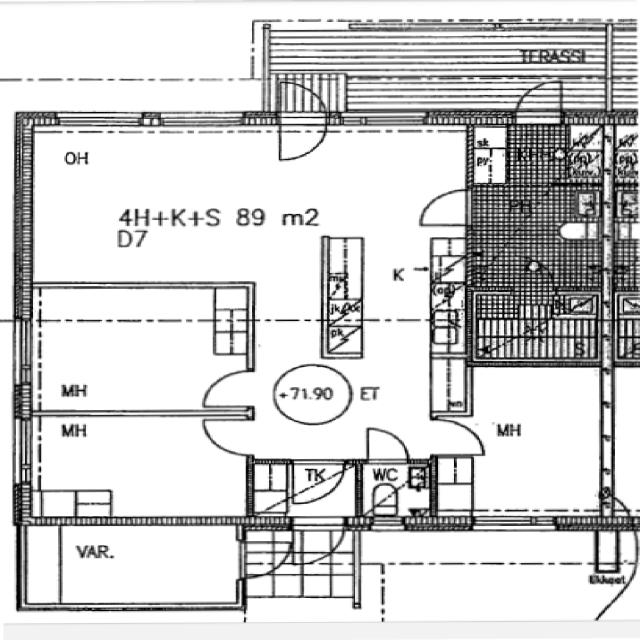door: (352, 419, 484, 464), (273, 82, 332, 166), (285, 458, 351, 509), (191, 365, 261, 412), (195, 408, 259, 458), (286, 512, 348, 563), (410, 183, 476, 230), (425, 412, 485, 459), (236, 533, 294, 580), (357, 423, 416, 467), (512, 74, 566, 121)
window: (3, 314, 44, 396), (6, 412, 44, 490), (469, 507, 559, 535), (152, 108, 248, 134), (53, 110, 142, 133), (361, 112, 426, 136)
zone: (16, 126, 338, 286), (17, 292, 255, 416), (434, 363, 616, 523), (18, 410, 257, 524), (19, 524, 246, 612), (464, 179, 606, 284), (464, 272, 605, 362), (470, 116, 608, 188), (353, 458, 435, 528)
